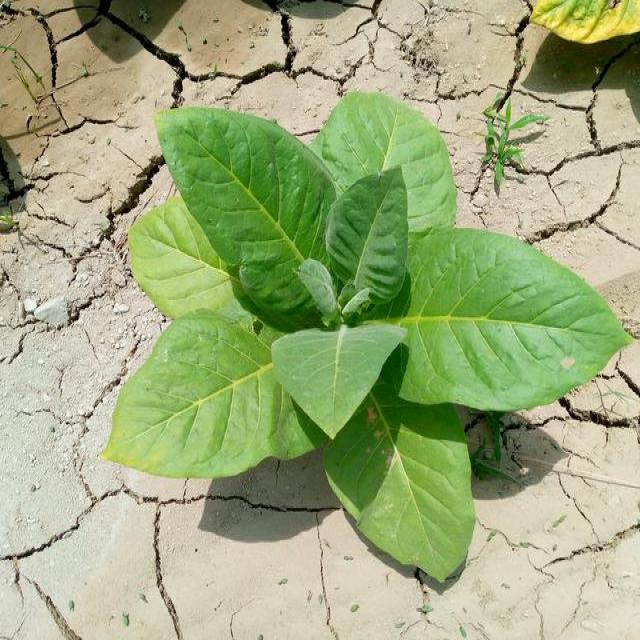crop: (100, 73, 632, 588)
